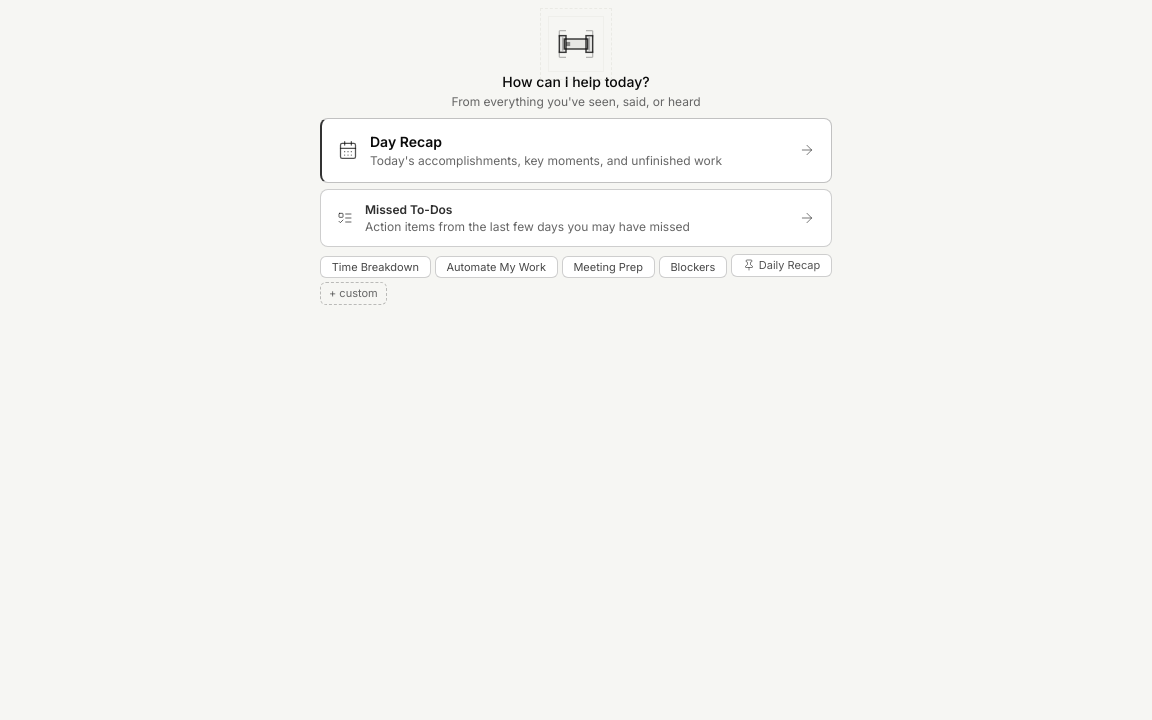
SummaryCards › saved template edit-before-run (#5239) › opens an editable preview instead of running immediately
Click the button "Daily Recap" at (782, 265), box [731,254,832,276]
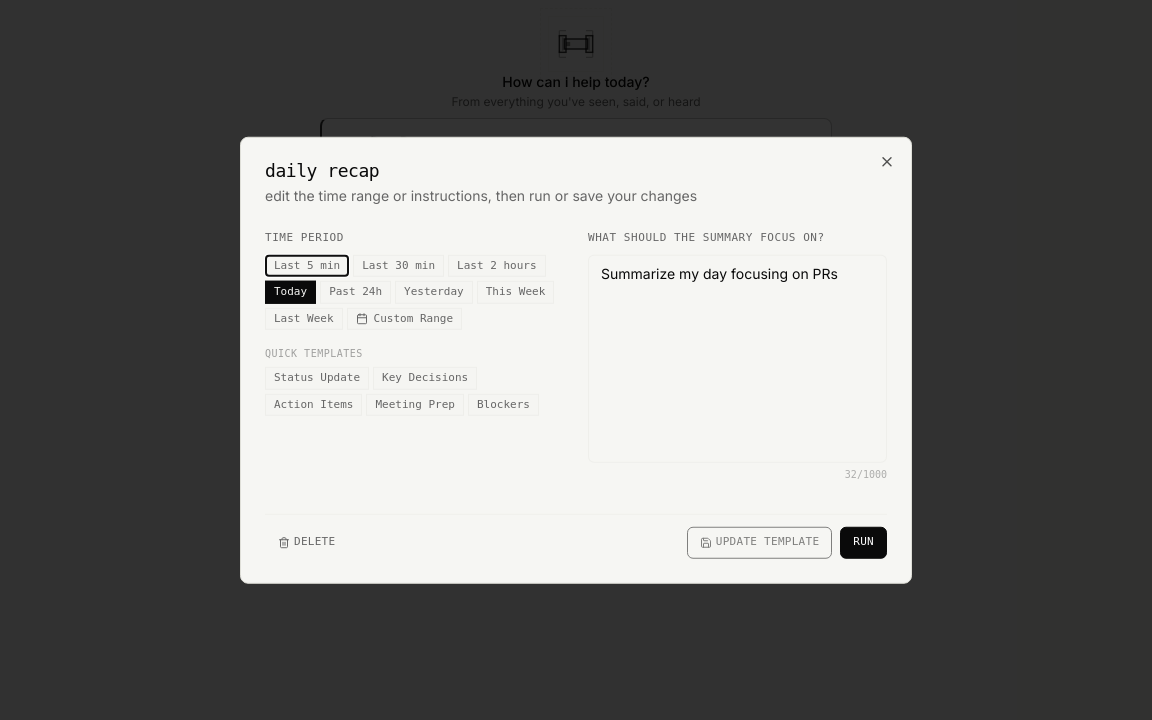
Now the text box showing "Summarize my day focusing on PRs" is shown, box [588,254,887,462]
Now the button "Run" is shown, box [840,526,887,558]
